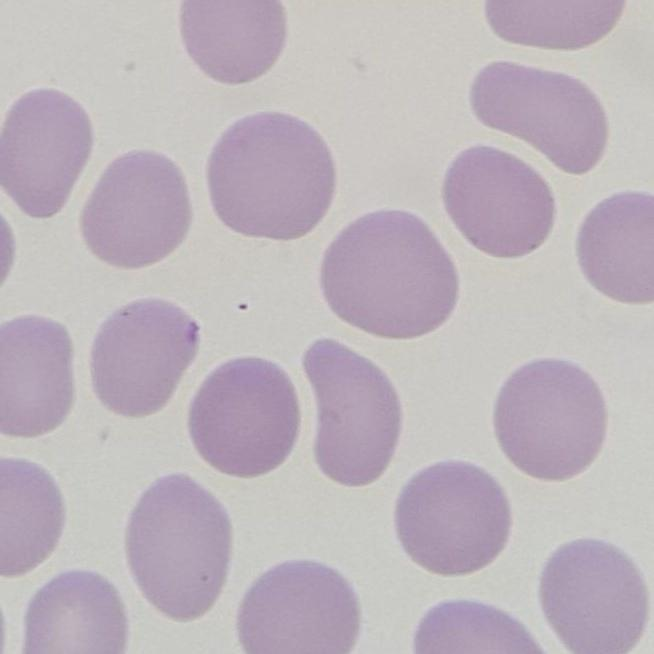Uninfected: (125, 467, 238, 622), (320, 211, 457, 338), (470, 62, 610, 181), (208, 109, 333, 236), (493, 356, 610, 484), (392, 459, 513, 577), (303, 346, 406, 484), (82, 146, 196, 269), (193, 359, 303, 480), (0, 89, 99, 221), (90, 296, 197, 418), (540, 537, 650, 654), (233, 556, 362, 654), (445, 146, 552, 258), (0, 316, 79, 440), (178, 0, 288, 87), (575, 191, 654, 302), (18, 572, 123, 654), (0, 454, 66, 582)
